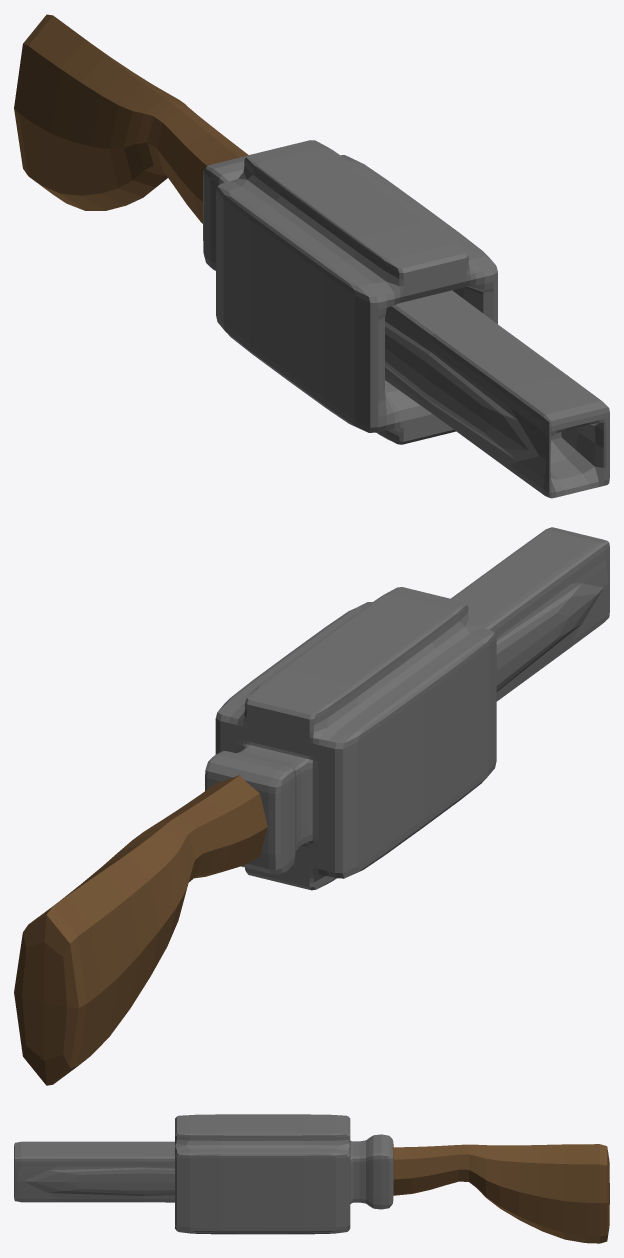
Rendered from buster 1.fbx.
3 renders of one model, top to bottom at view 1: azimuth 30°, elevation 25°; view 2: azimuth 150°, elevation 25°; view 3: azimuth 270°, elevation 25°, orthographic. The views are drawn at different scales.
Parts seen in each view (by area): view 1: Cube, Cube.001; view 2: Cube, Cube.001; view 3: Cube, Cube.001.
Boxes of the visible parts, box(x1,y1,x2,y2) form: Cube: box(203, 140, 609, 498); Cube.001: box(14, 14, 248, 223); Cube: box(205, 527, 609, 890); Cube.001: box(14, 775, 267, 1085); Cube: box(14, 1114, 393, 1234); Cube.001: box(391, 1144, 609, 1243).
Bounding box in the file's own units: 200 × 298 × 1348.
